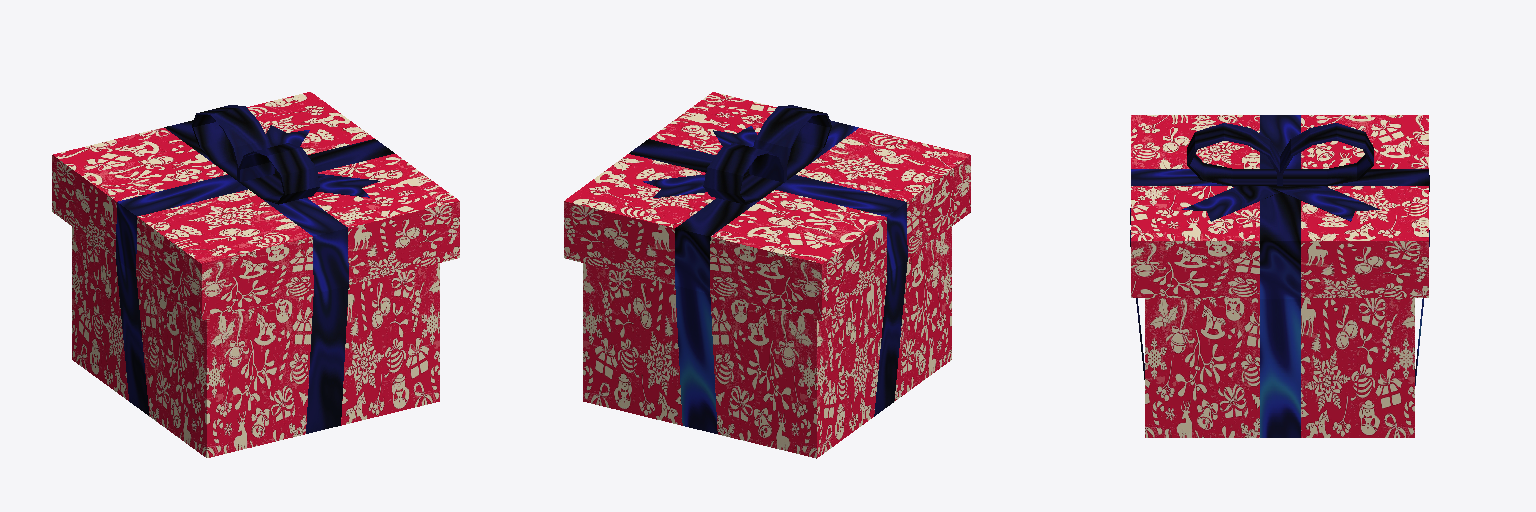
3 renders of one model, left to right at view 1: azimuth 30°, elevation 25°; view 2: azimuth 150°, elevation 25°; view 3: azimuth 270°, elevation 25°, orthographic.
Parts seen in each view (by area): view 1: hat.002; view 2: hat.002; view 3: hat.002.
Part boxes in pixels (x1,y1,x2,y2): hat.002: (52, 92, 459, 457); hat.002: (564, 92, 970, 458); hat.002: (1130, 115, 1429, 437).
Size of the model in its own units: 2.22 by 2.04 by 2.22.
Materials: 2 (2 with a texture image).